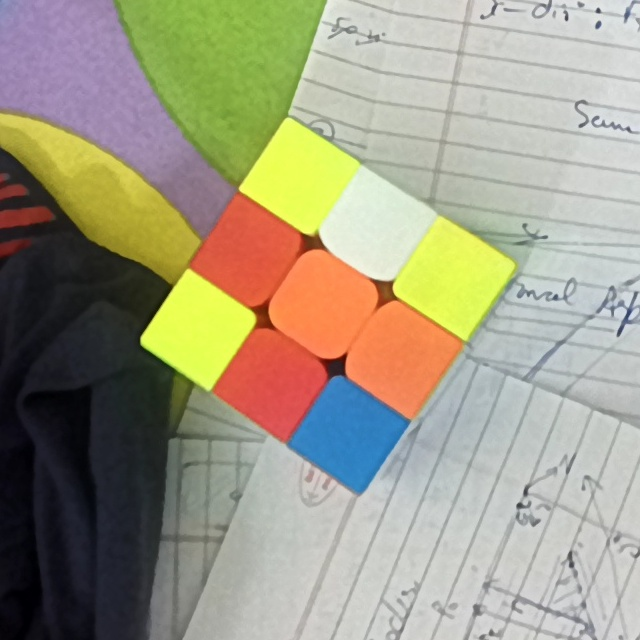tile: (236, 354, 304, 413), (366, 328, 432, 388), (316, 405, 380, 466), (423, 243, 483, 308), (216, 223, 279, 284), (287, 278, 352, 337), (345, 200, 410, 258), (263, 152, 333, 204), (171, 304, 227, 359)
